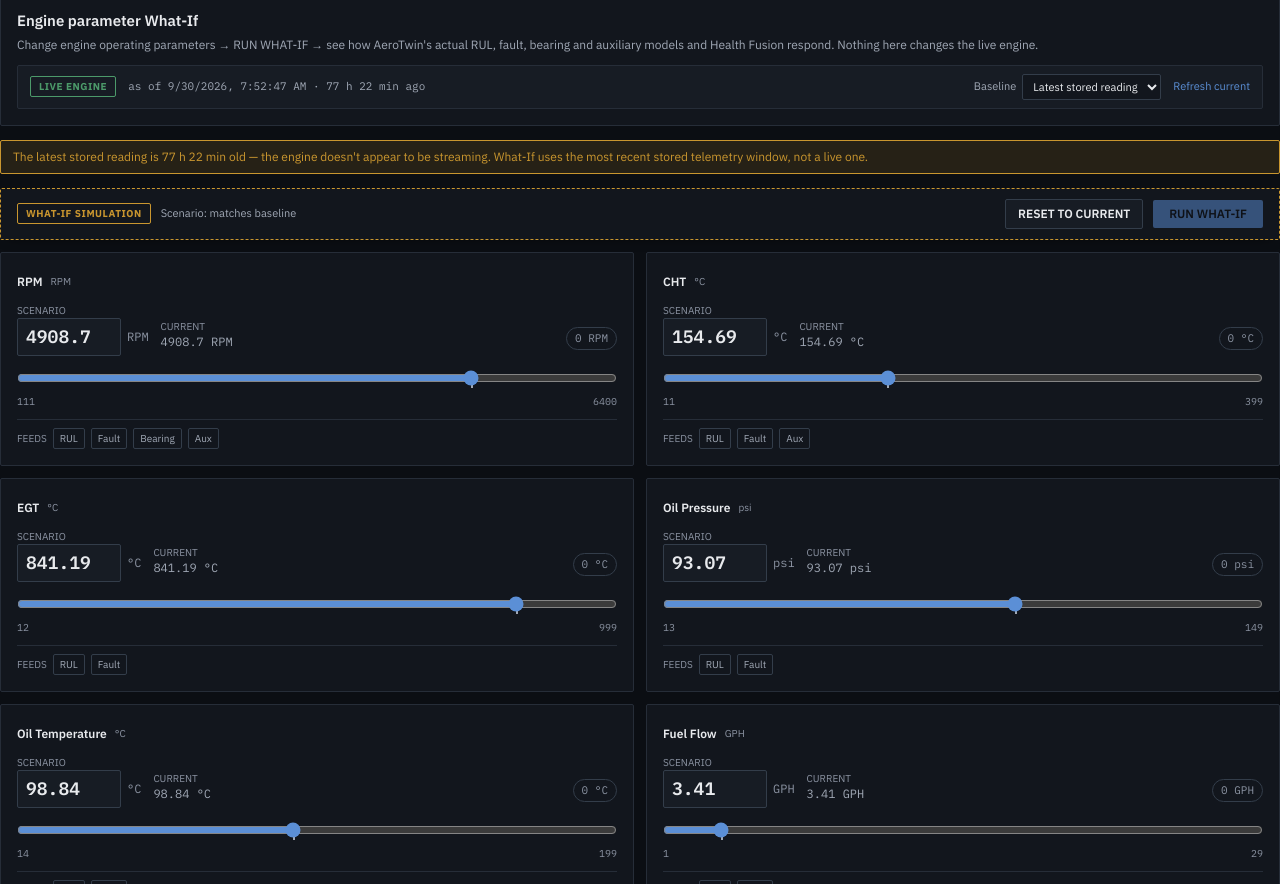
it: Running a What-If › marks simulation alerts as SIMULATION and never presents them as live
Step 1. Set the slider named "EGT scenario" to "880" → [539, 604], box [17, 596, 617, 612]
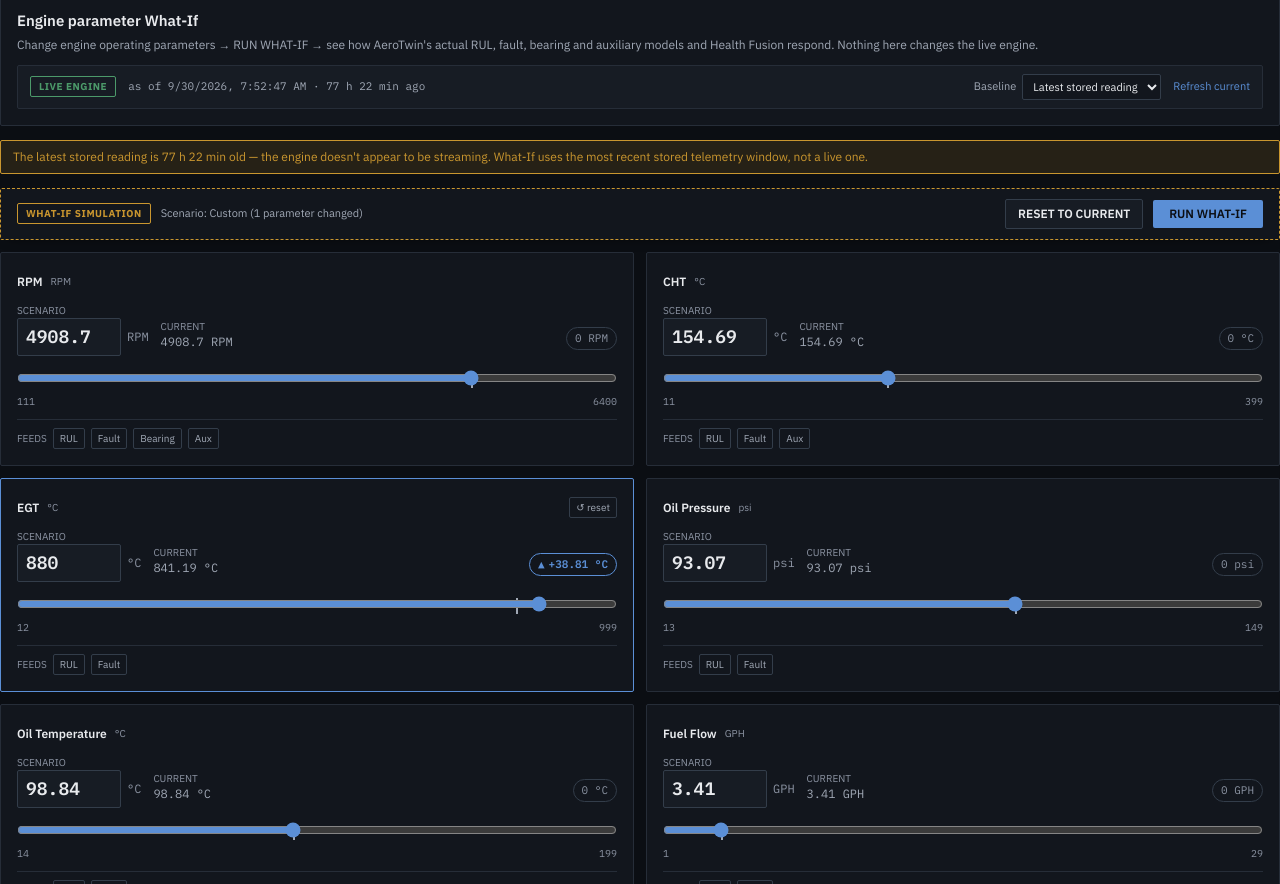
Step 2. Click the button with test id "whatif-run" → [1208, 214], box [1153, 200, 1263, 228]
(page scrolled)
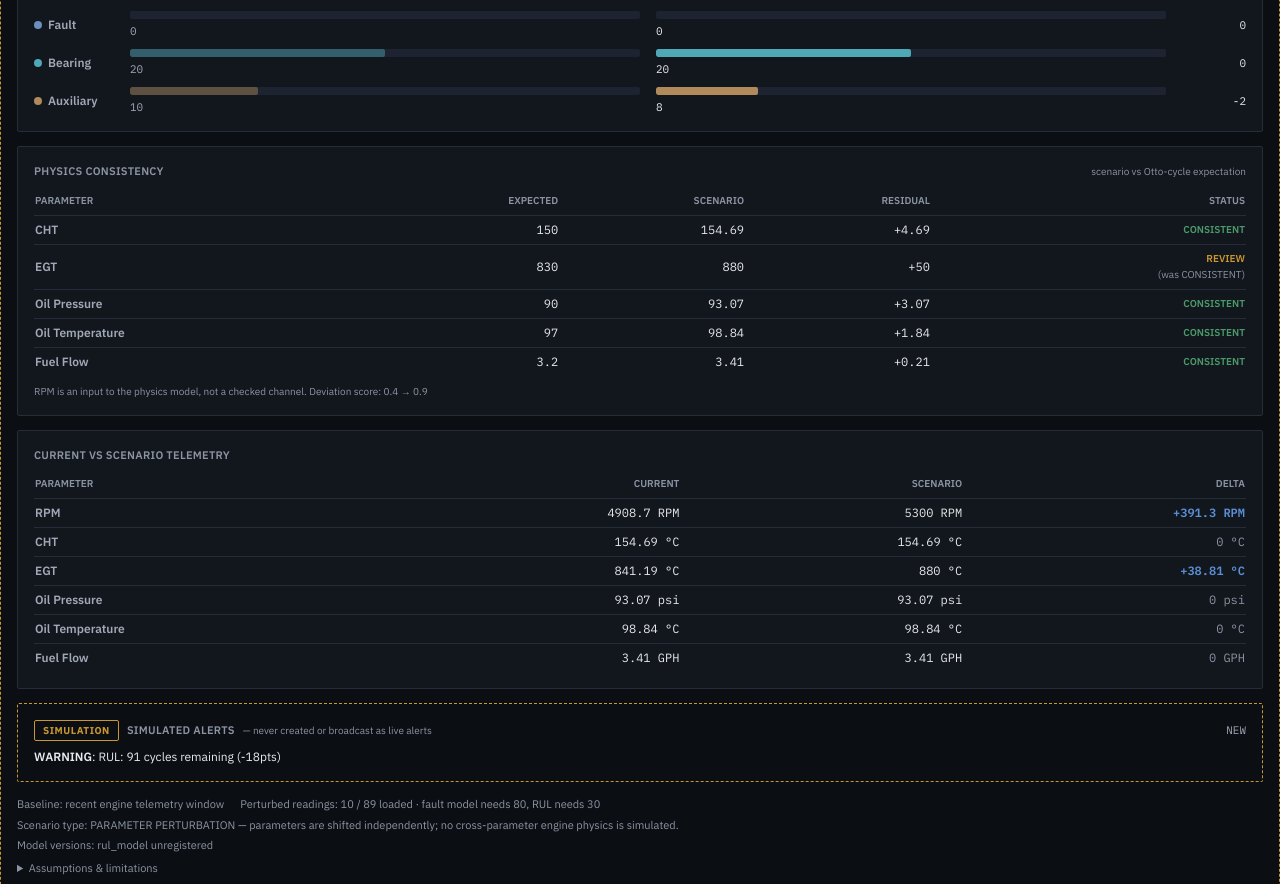
Now the text with test id "whatif-alerts-badge" reads "SIMULATION", box [43, 724, 110, 737]
Now the element with test id "whatif-alerts" shows "never created or broadcast as live alerts", box [243, 724, 432, 737]
Now the text with test id "whatif-alerts-change" reads "NEW", box [1226, 723, 1246, 737]
